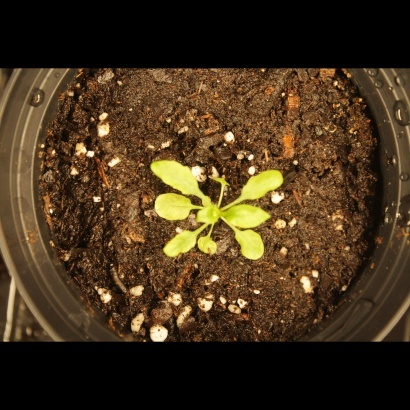leaf: (147, 151, 202, 195), (237, 170, 293, 203), (221, 200, 274, 229), (161, 224, 204, 259), (151, 193, 196, 222), (234, 226, 269, 262), (209, 172, 234, 195), (196, 233, 219, 256), (198, 203, 221, 226)
